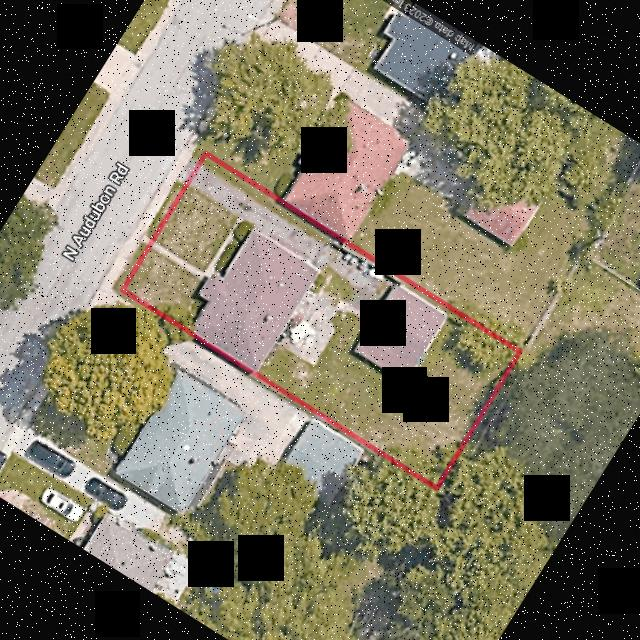Driveway: (189, 162, 392, 364)
Extra Driveway: (176, 154, 198, 183)
Extra Lawn: (143, 179, 183, 237), (191, 146, 202, 158)
Extra Sidewalk: (139, 233, 150, 243)
House: (194, 228, 317, 369)
Other: (353, 284, 446, 380), (340, 250, 384, 280)
Sidewalk: (150, 215, 241, 278)
